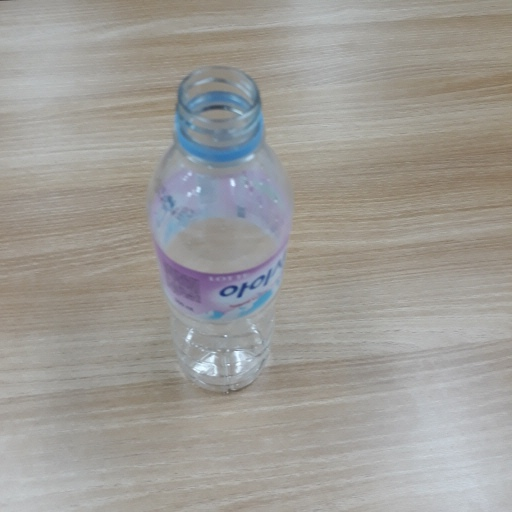Plastic_0: (150, 67, 290, 397)
